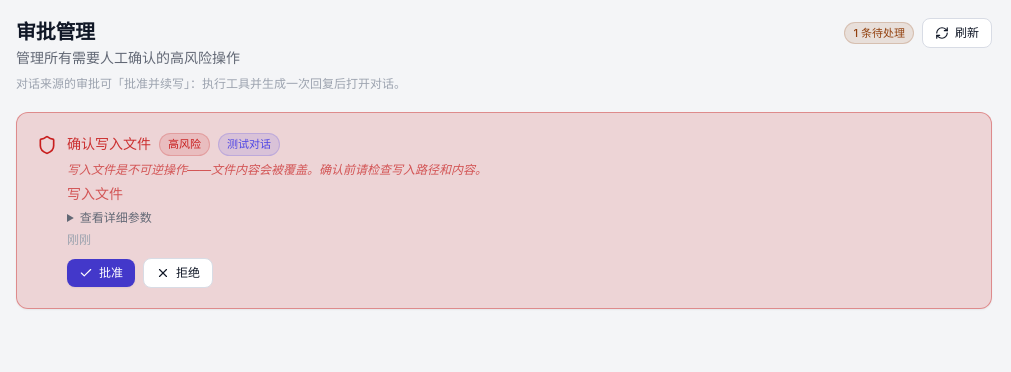
Test case: ApprovalsPage › removes item after approve
Step 1. Click the button "批准" → (101, 272), box [67, 258, 135, 286]
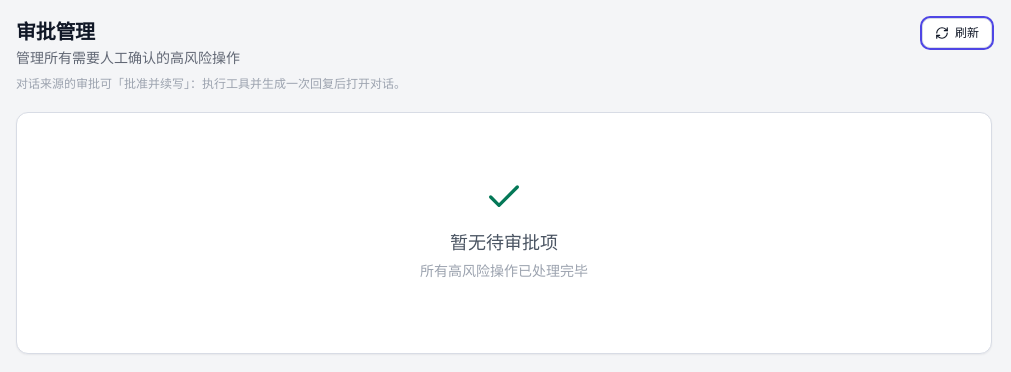
Check: the text "暂无待审批项" is shown, box [450, 232, 558, 253]
